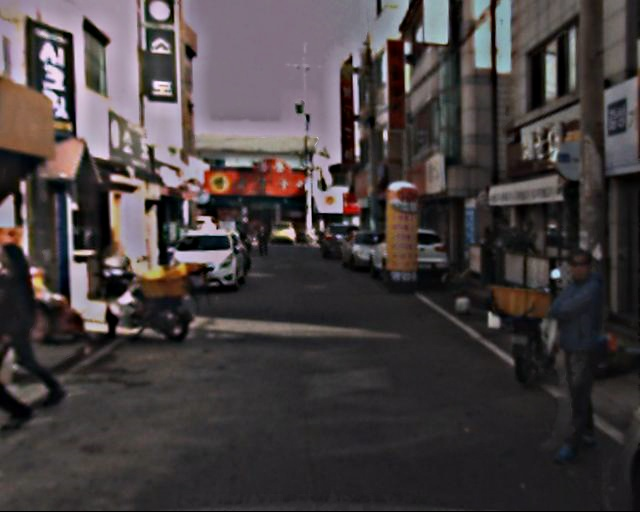person: (527, 246, 619, 460), (255, 219, 271, 260)
